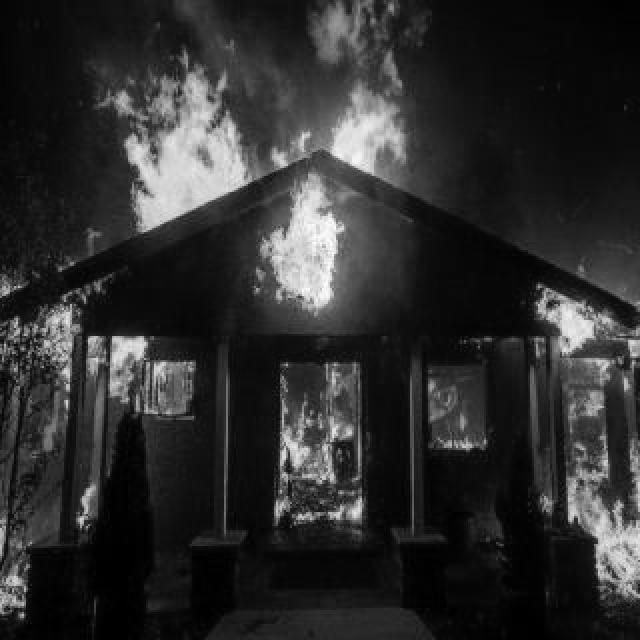Fire: (102, 28, 258, 222), (536, 306, 634, 572), (264, 362, 374, 544), (318, 2, 414, 182), (256, 162, 344, 326), (30, 292, 150, 398), (416, 346, 498, 470), (2, 526, 30, 622), (70, 458, 98, 544)
